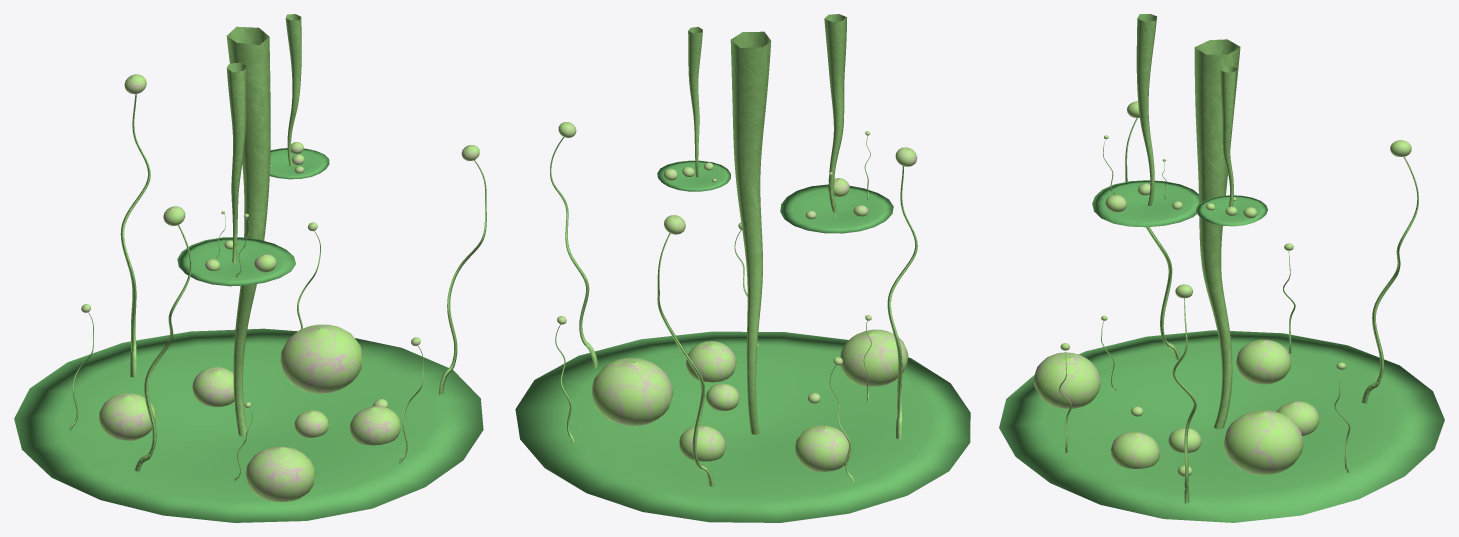
The model's file is alienPlants4_edit_for_FBX.fbx.
The picture shows the model from 3 angles, left to right: view 1: azimuth 30°, elevation 25°; view 2: azimuth 150°, elevation 25°; view 3: azimuth 270°, elevation 25°; orthographic projection. The views are drawn at different scales.
Parts seen in each view (by area): view 1: plants01; view 2: plants01; view 3: plants01.
Boxes of the visible parts, bbox=[...] form: plants01: bbox=[14, 14, 486, 522]; plants01: bbox=[515, 14, 970, 522]; plants01: bbox=[999, 14, 1444, 522].
Bounding box in the file's own units: 698 × 674 × 668.
